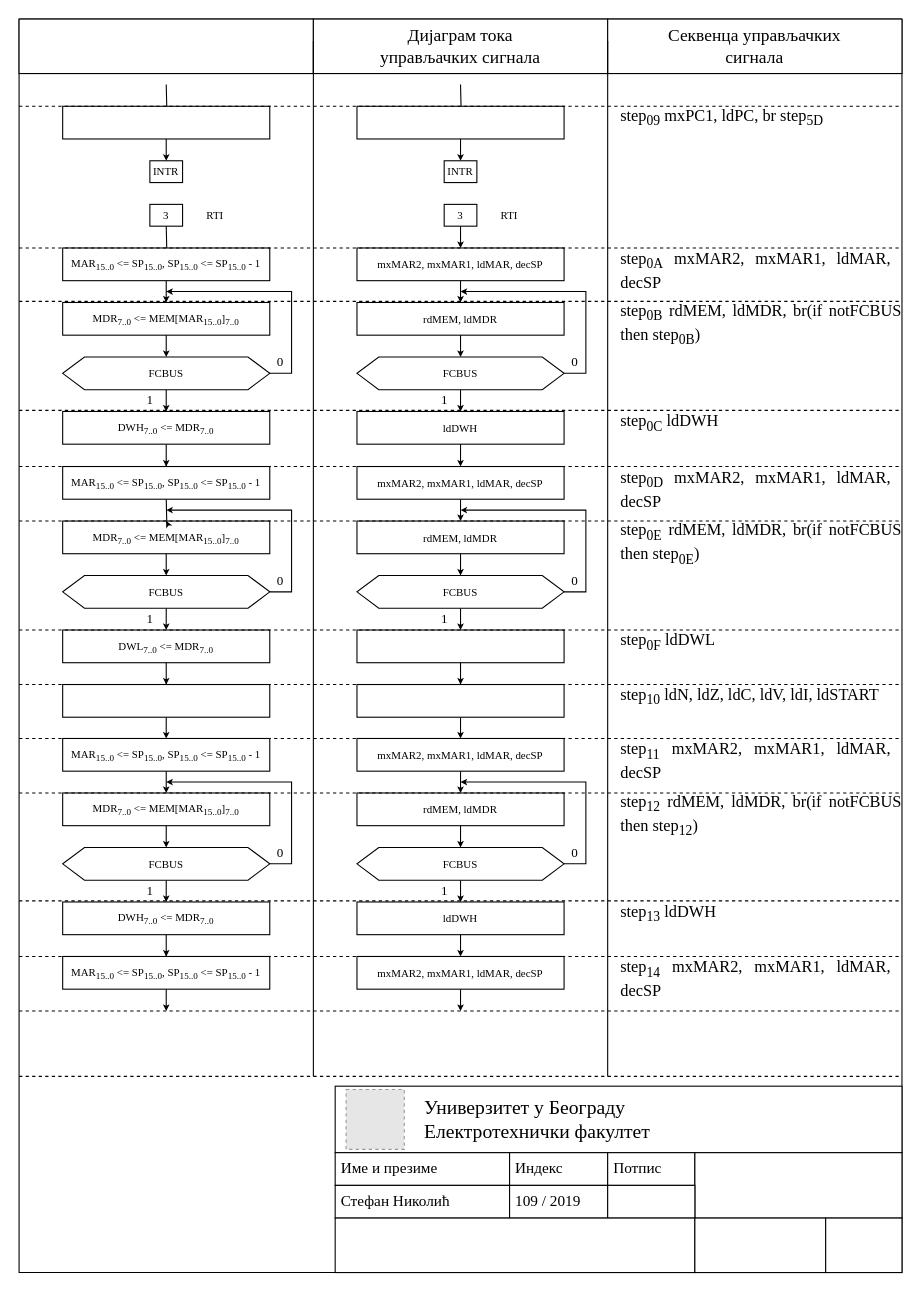
This 922x1292 diagram has some shape labels left out. Grey dashed boxes stand in for pictures. Each missing label, with the centre of its shape:
ldDWL: point 460,646
ldN, ldZ, ldC, ldV, ldI, ldSTART: point 460,700
mxPC1, ldPC: point 460,122
PC 15..0 <= DW 15..0: point 166,122
PSW 15..0 <= DW 15..0: point 166,700
Датум 25.09.2021.: point 760,1245
Дијаграм тока микрооперација: point 165,46
Назив Основи рачунарске технике 2: point 514,1245
Пројекат Задатак 209: point 798,1185
Страна 8: point 863,1245
